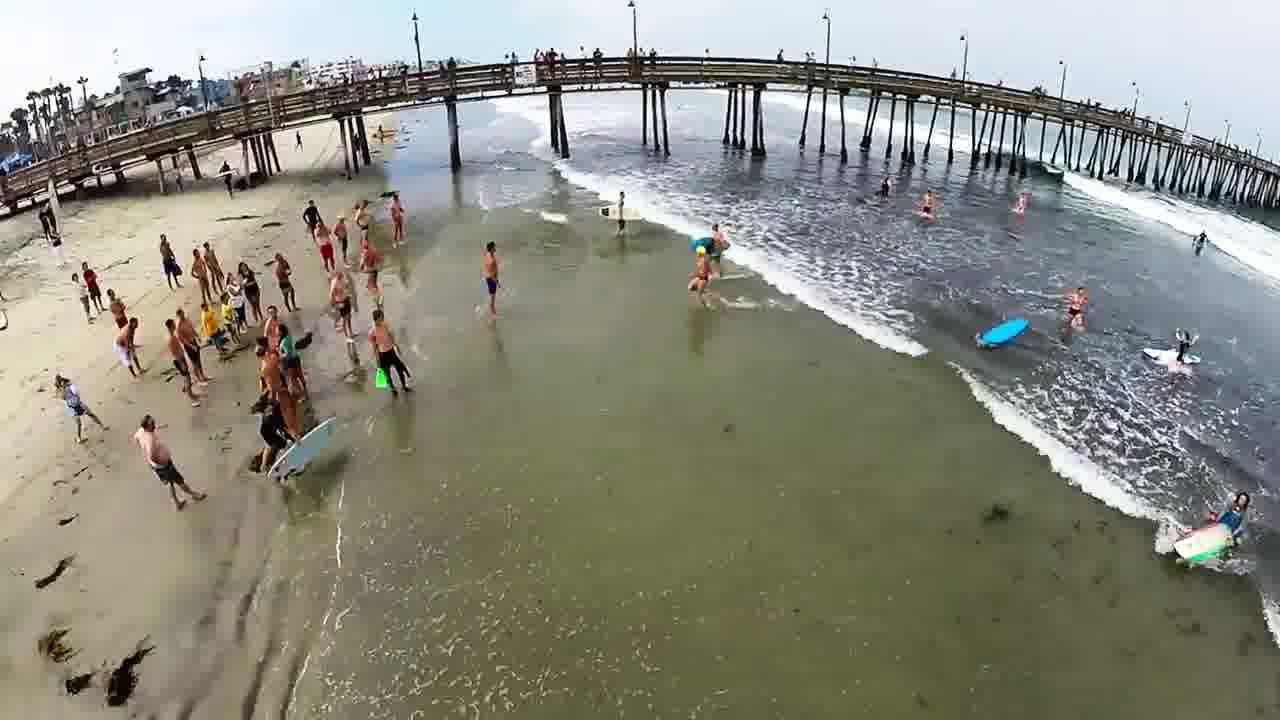swimmer: (1064, 275, 1094, 323), (1188, 217, 1213, 259), (1007, 180, 1030, 220), (916, 184, 947, 213), (870, 171, 894, 189)
